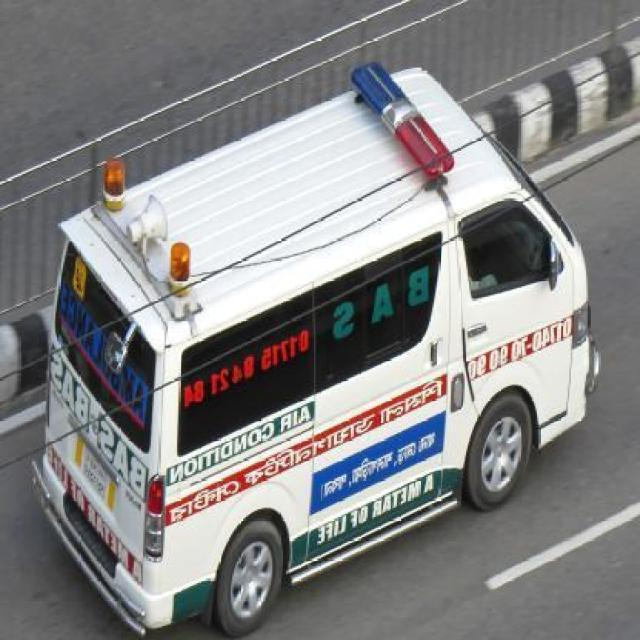emergency: (30, 58, 602, 638)
